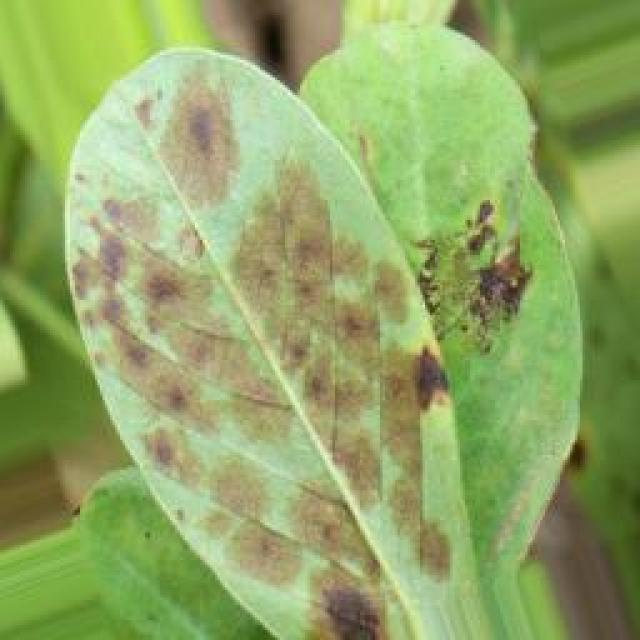Whitefly: (11, 0, 559, 640)
